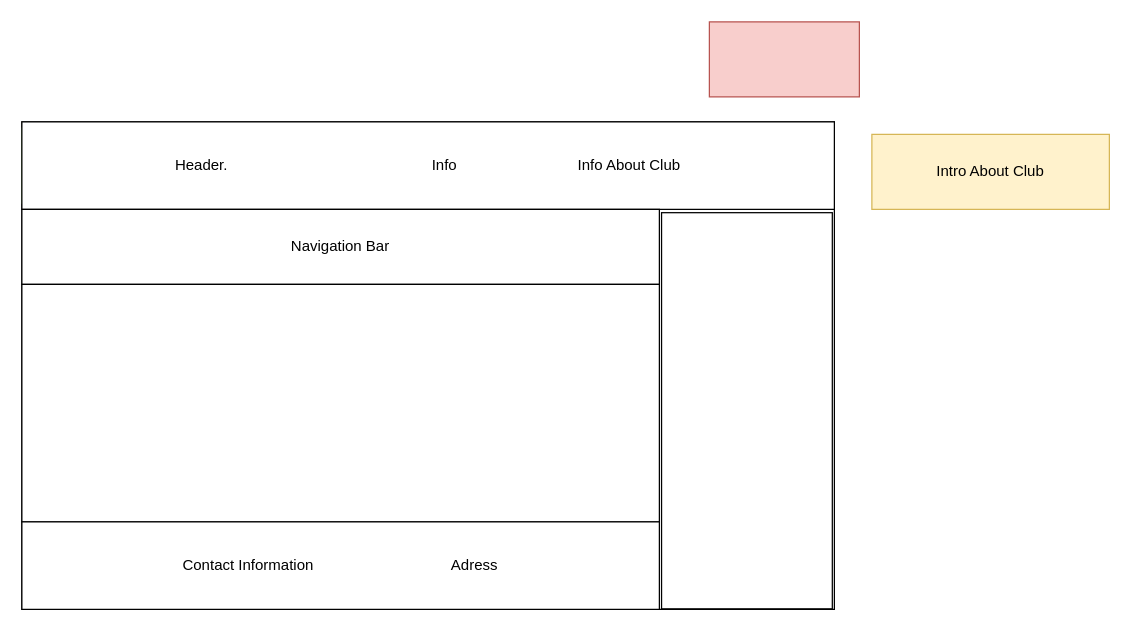
Some shapes in this 1131 by 631 pixel diagram are drawn without their labels. The shapes that lost their labels are listed below. From the top down, each one's centre as x and y in pixels, then its label:
pixel 783 59: Image
pixel 340 402: About Teachers. Book Reviews Opening Timing
pixel 746 410: Best Seller Books
